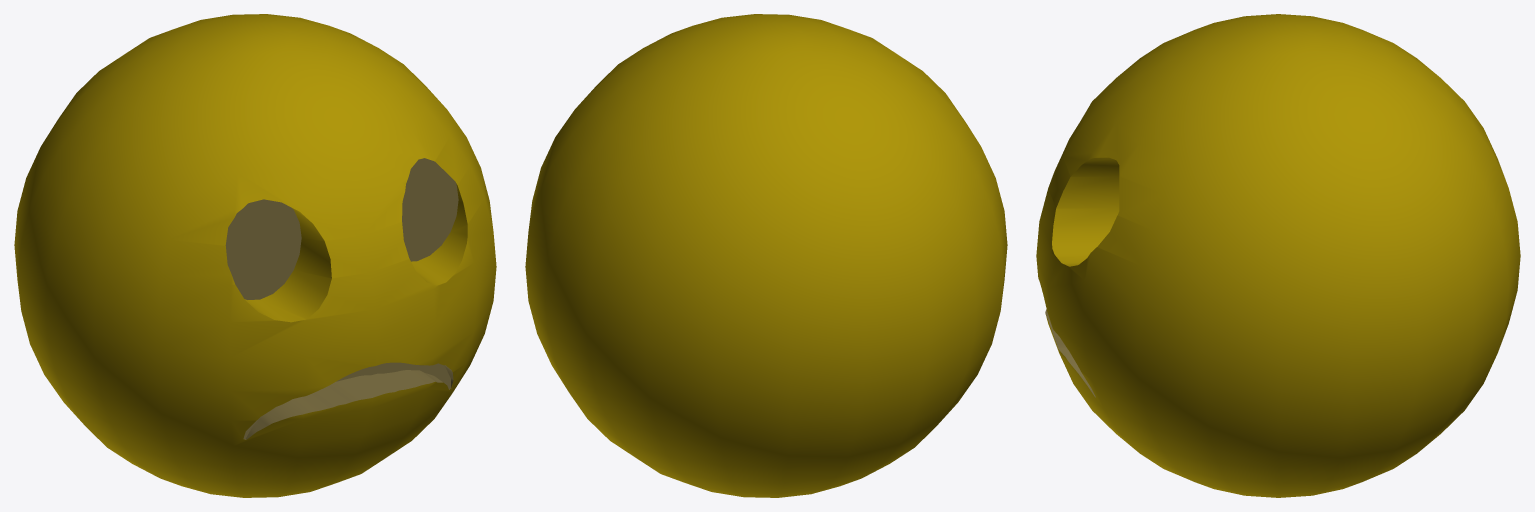
File: Emoji_Frown.fbx
3 renders of one model, left to right at view 1: azimuth 30°, elevation 25°; view 2: azimuth 150°, elevation 25°; view 3: azimuth 270°, elevation 25°, orthographic.
Parts seen in each view (by area): view 1: pSphere5; view 2: pSphere5; view 3: pSphere5.
Part boxes in pixels (x1,y1,x2,y2): pSphere5: (14, 14, 496, 497); pSphere5: (525, 14, 1007, 497); pSphere5: (1036, 14, 1520, 497).
Bounding box in the file's own units: 8.32 × 8.32 × 8.32.
